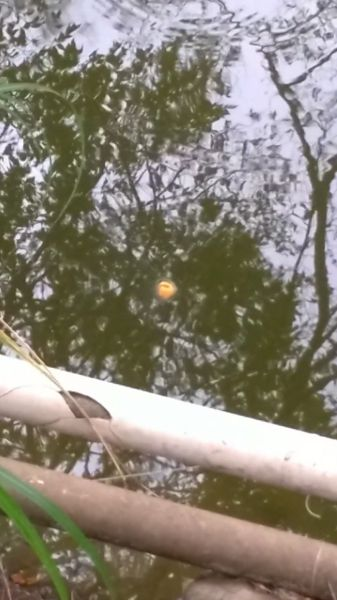eggs: (153, 276, 182, 303)
